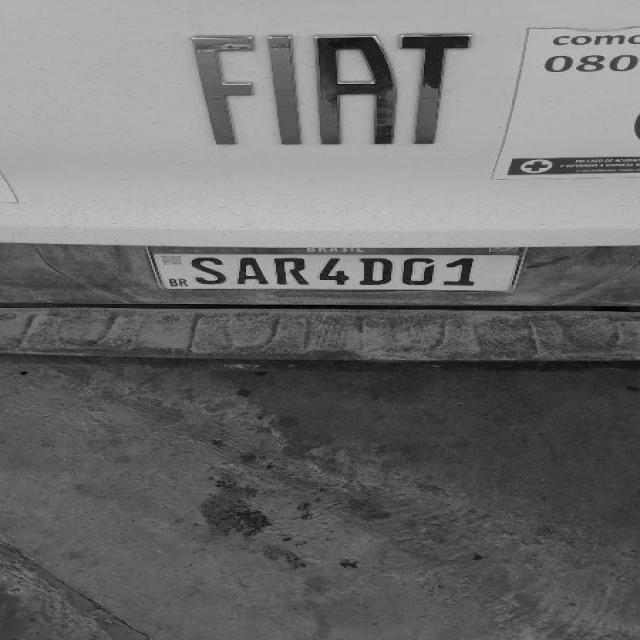placa_mercosul: (150, 248, 530, 293)
